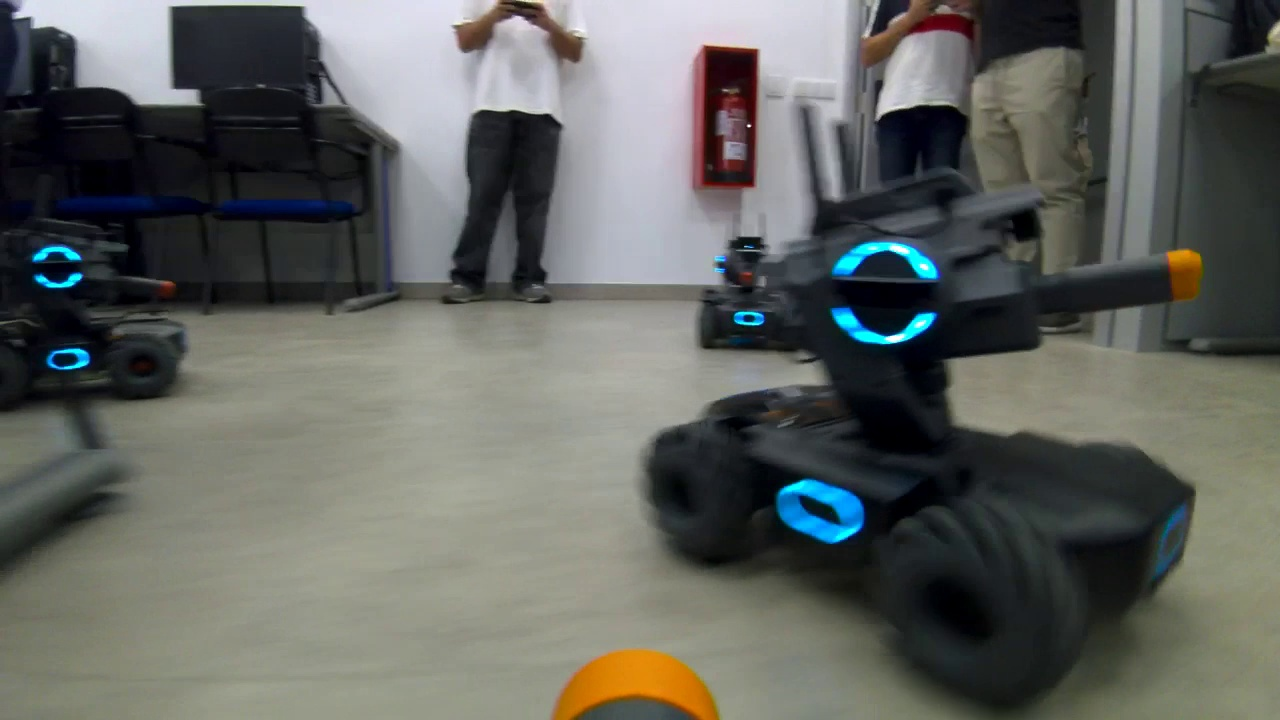robot: (618, 175, 1202, 702), (1, 217, 191, 410), (687, 211, 813, 357)
